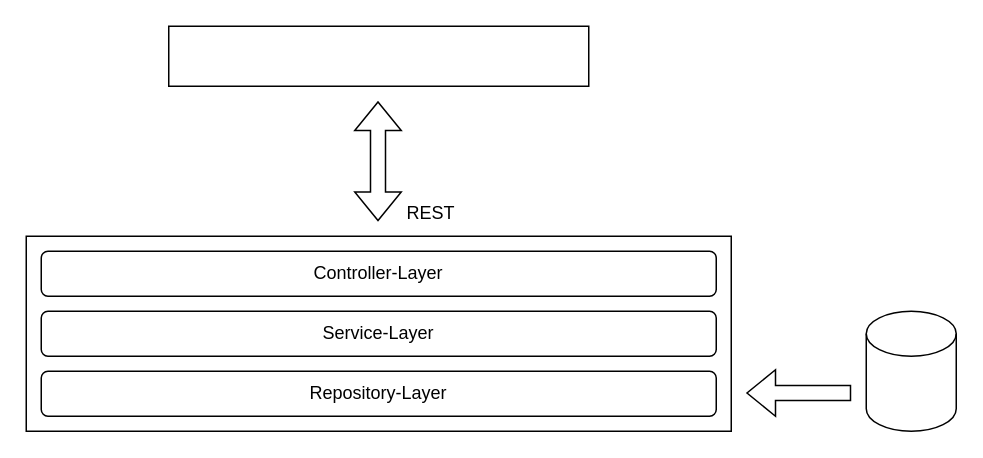
The diagram is 983 pixels wide and 458 high, and some of its shapes have lost their labels. Here are the shapes that lost their labels. From the top down, the centre of each, then its label:
the point at 378,55: User Interface
the point at 910,370: DB
